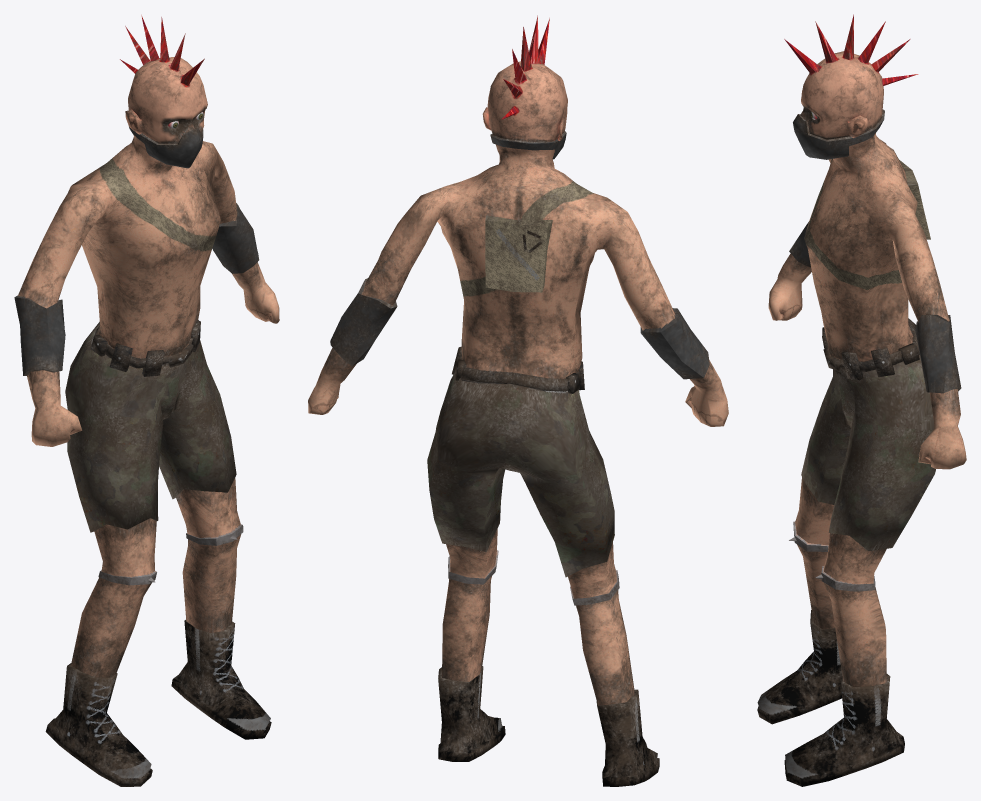
File: Anim_arma_c_npc2.0037.obj
The picture shows the model from 3 angles, left to right: view 1: azimuth 30°, elevation 25°; view 2: azimuth 150°, elevation 25°; view 3: azimuth 270°, elevation 25°; orthographic projection. The views are drawn at different scales.
Parts seen in each view (by area): view 1: polySurface1; view 2: polySurface1; view 3: polySurface1.
Part boxes in pixels (x1,y1,x2,y2): polySurface1: (14, 15, 279, 786); polySurface1: (308, 15, 728, 786); polySurface1: (757, 14, 966, 786).
Bounding box in the file's own units: 4.73 × 10.24 × 2.64.
